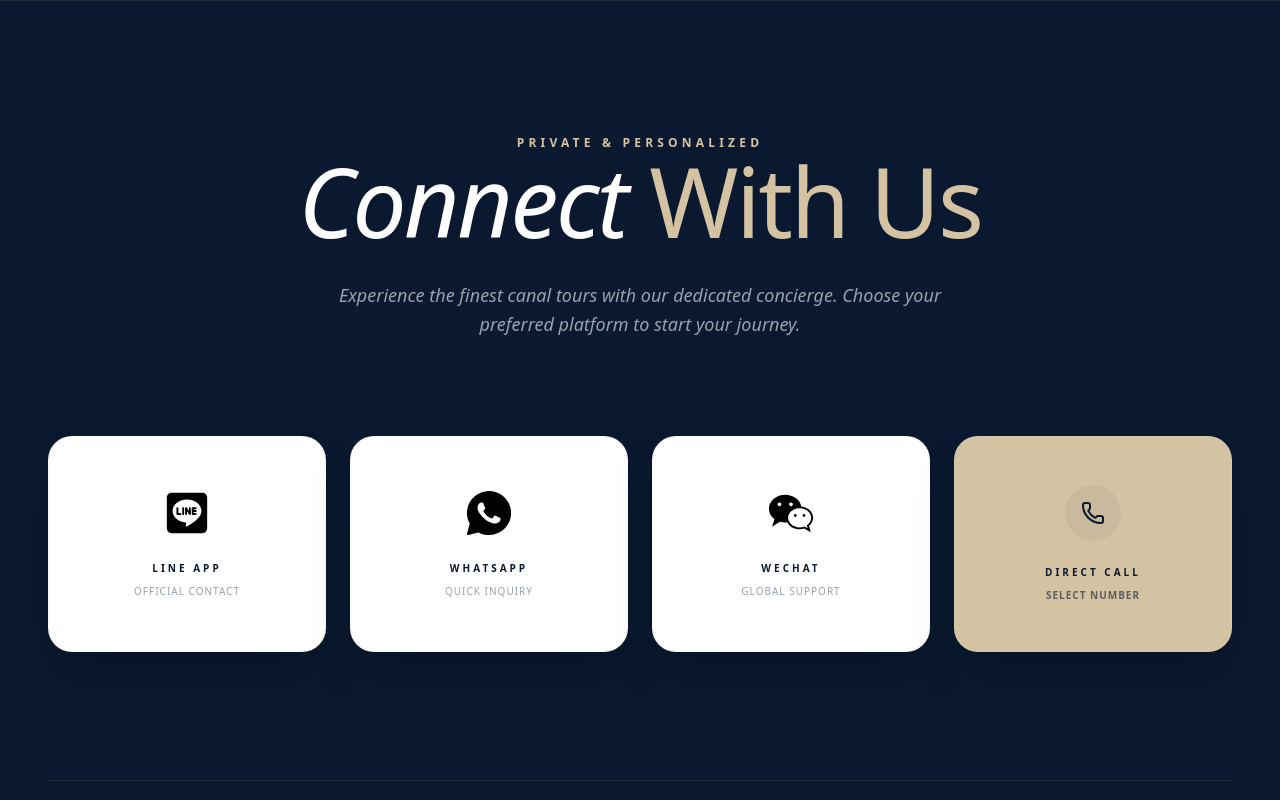
Scenario: Footer Component › closes the phone selection popup when Close Window is clicked
Open the popup
Step 1. Click the heading "DIRECT CALL" → point(1093, 572), box [1045, 564, 1141, 580]
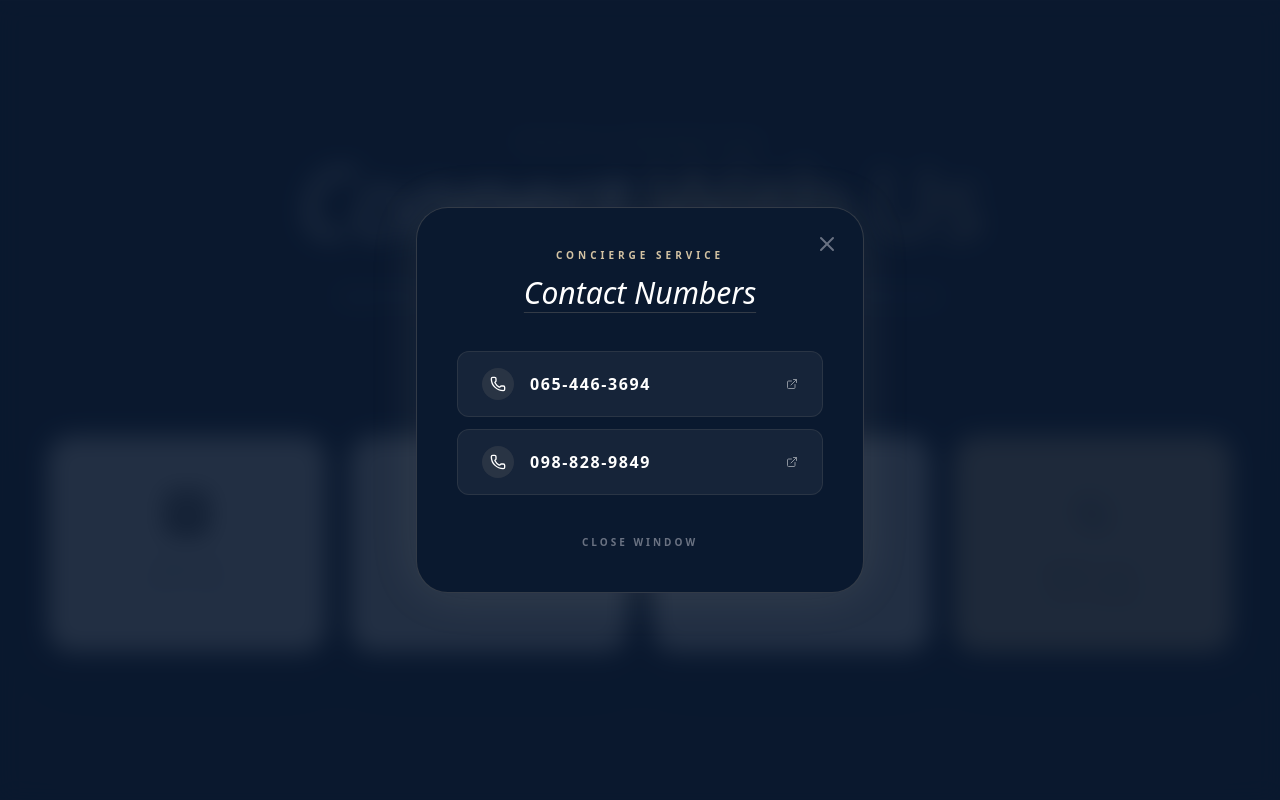
Expected: the heading "Contact Numbers" is shown, [524, 272, 756, 313]
Click "Close Window"
Step 2. Click the button "Close Window" → point(640, 542), box [457, 535, 823, 550]
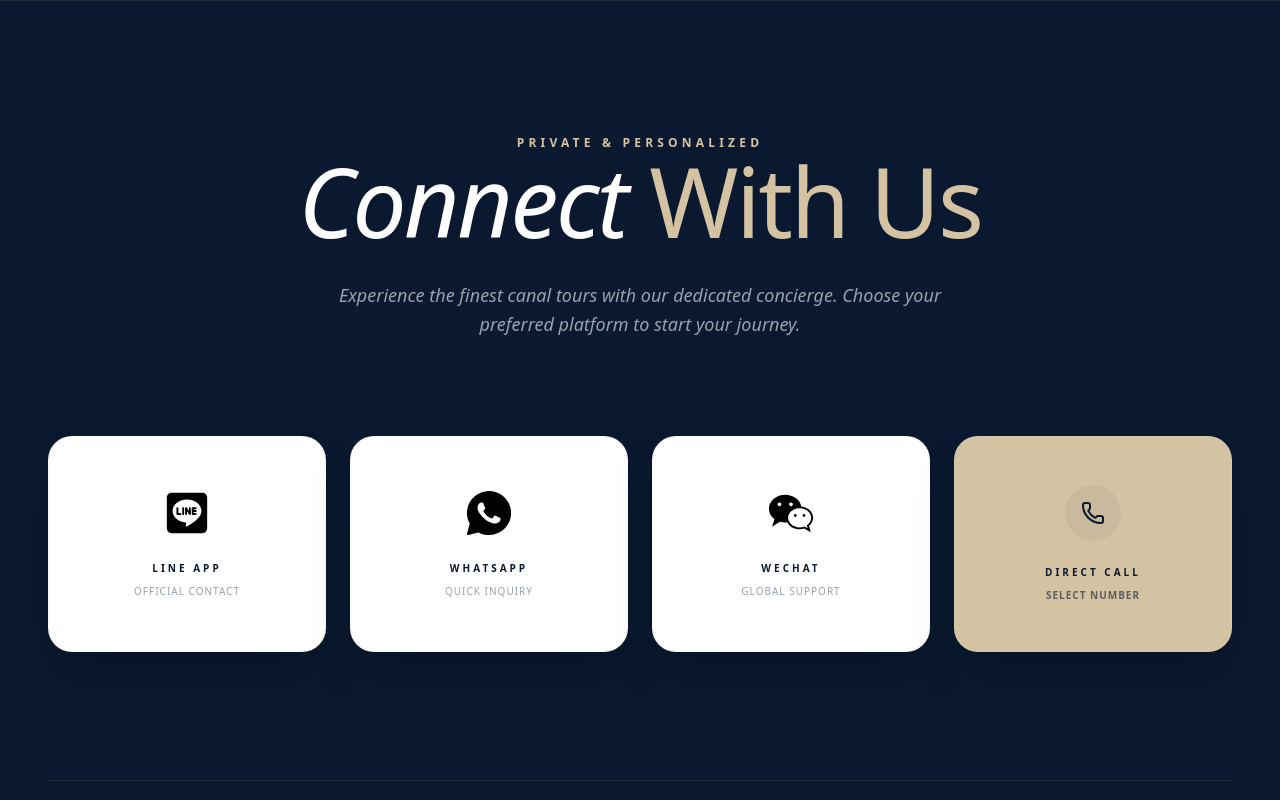
Expected: the heading "Contact Numbers" is gone
